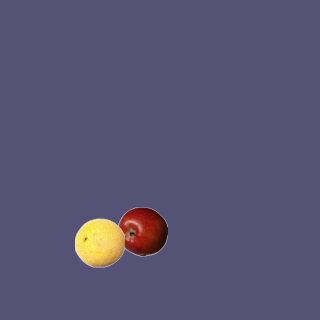Apple Braeburn: (117, 206, 167, 256)
Cantaloupe 1: (74, 217, 124, 267)
